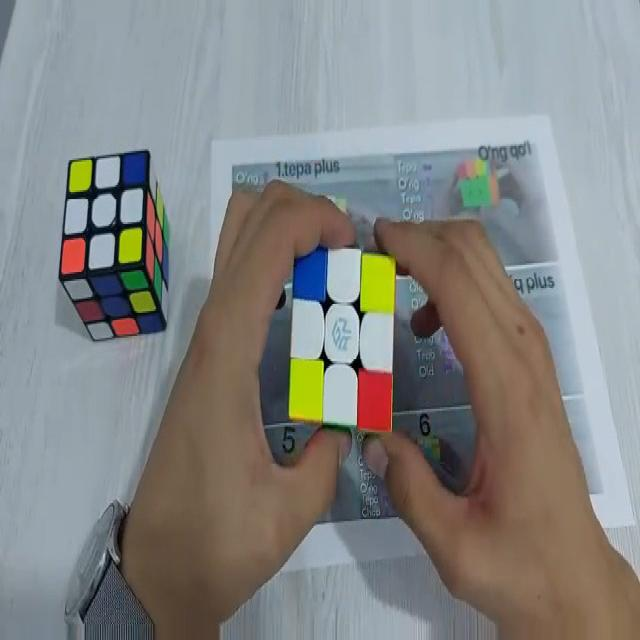Rub: (59, 147, 170, 343), (289, 243, 396, 433)
